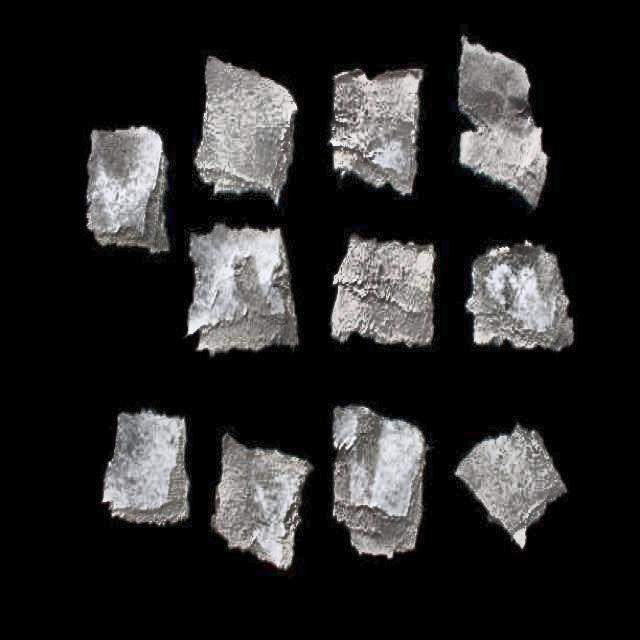cardboard: (458, 36, 549, 211), (194, 58, 297, 202), (331, 407, 425, 559), (186, 224, 297, 352), (455, 424, 567, 550), (210, 437, 313, 571), (332, 235, 436, 348), (329, 70, 423, 195), (84, 126, 171, 261), (468, 245, 575, 351), (101, 410, 192, 532)
